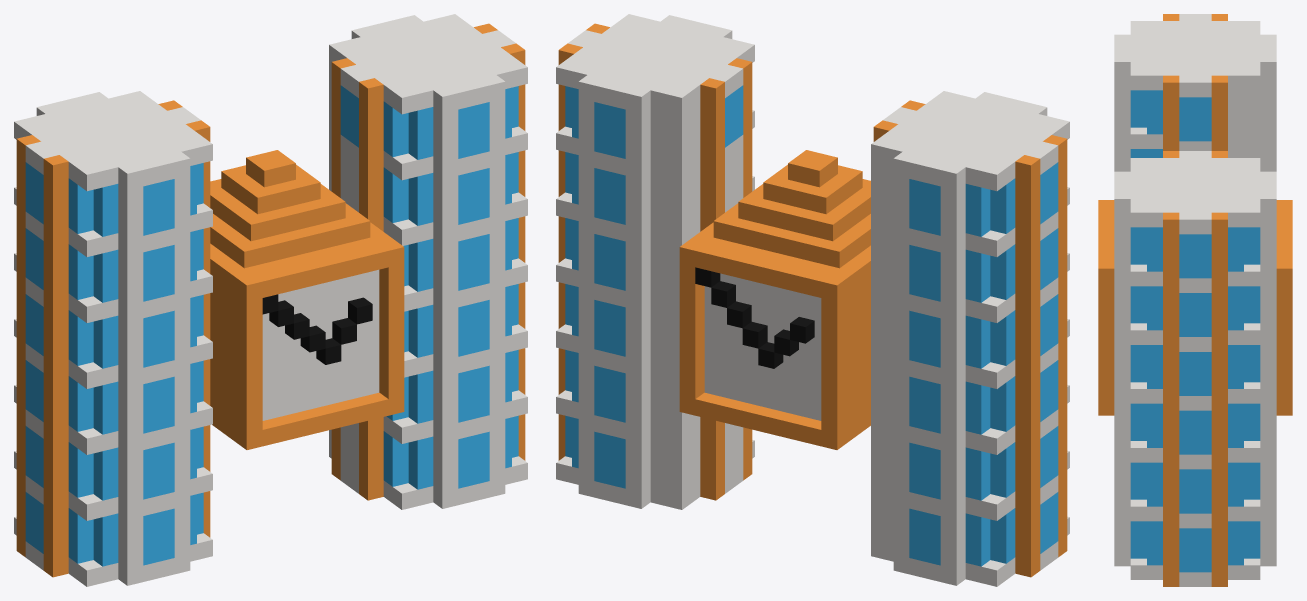
File: TwentySevenModel.fbx
3 renders of one model, left to right at view 1: azimuth 30°, elevation 25°; view 2: azimuth 150°, elevation 25°; view 3: azimuth 270°, elevation 25°, orthographic. The views are drawn at different scales.
Visible parts, largest first — view 1: Cylinder; view 2: Cylinder; view 3: Cylinder.
Part boxes in pixels (bbox=[...]): Cylinder: bbox=[14, 14, 527, 586]; Cylinder: bbox=[556, 14, 1069, 586]; Cylinder: bbox=[1098, 14, 1292, 586].
Bounding box in the file's own units: 30 × 25 × 12.
Materials: 1 (1 with a texture image).
